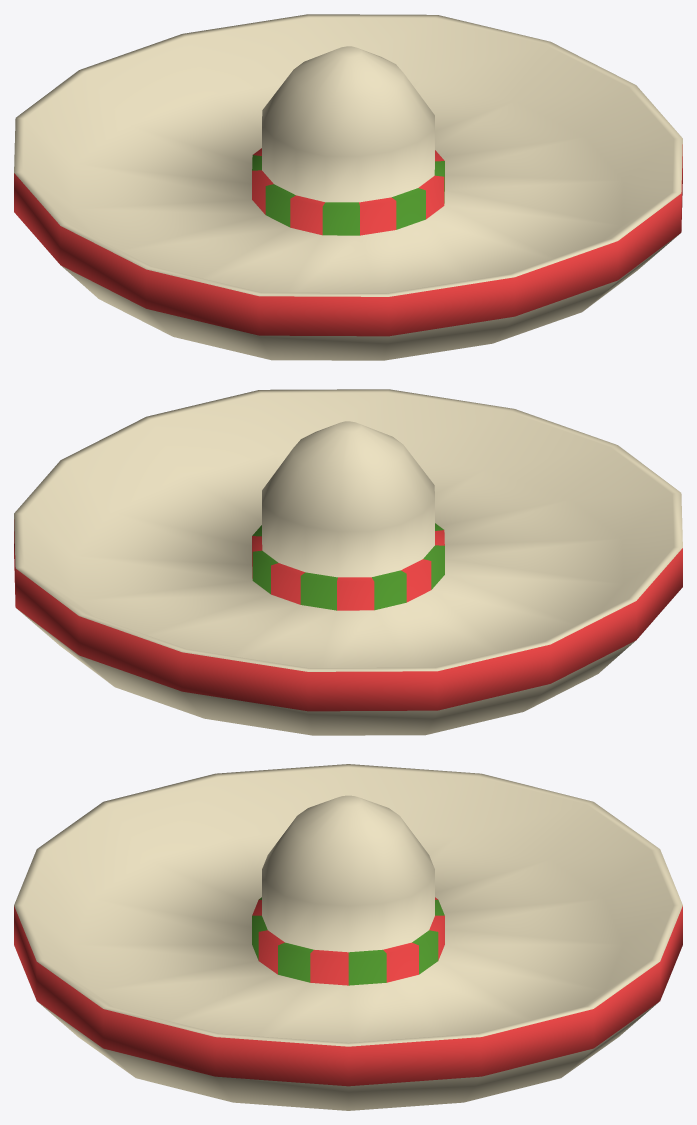
Rendered from mexicohat.fbx.
3 renders of one model, top to bottom at view 1: azimuth 30°, elevation 25°; view 2: azimuth 150°, elevation 25°; view 3: azimuth 270°, elevation 25°, orthographic.
Parts seen in each view (by area): view 1: Plane; view 2: Plane; view 3: Plane.
Boxes of the visible parts, box(x1,y1,x2,y2) form: Plane: box(14, 14, 682, 360); Plane: box(14, 389, 682, 735); Plane: box(14, 764, 682, 1110).
Bounding box in the file's own units: 388 × 135 × 388.
